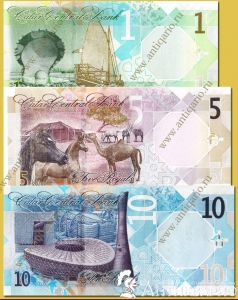cash: (4, 185, 235, 297), (4, 87, 231, 186), (4, 1, 218, 87)
